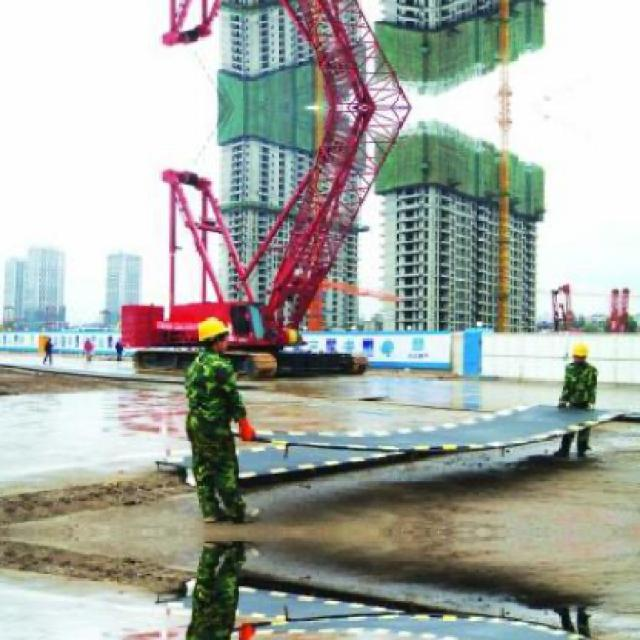helmet: (195, 311, 231, 355), (571, 337, 594, 363)
